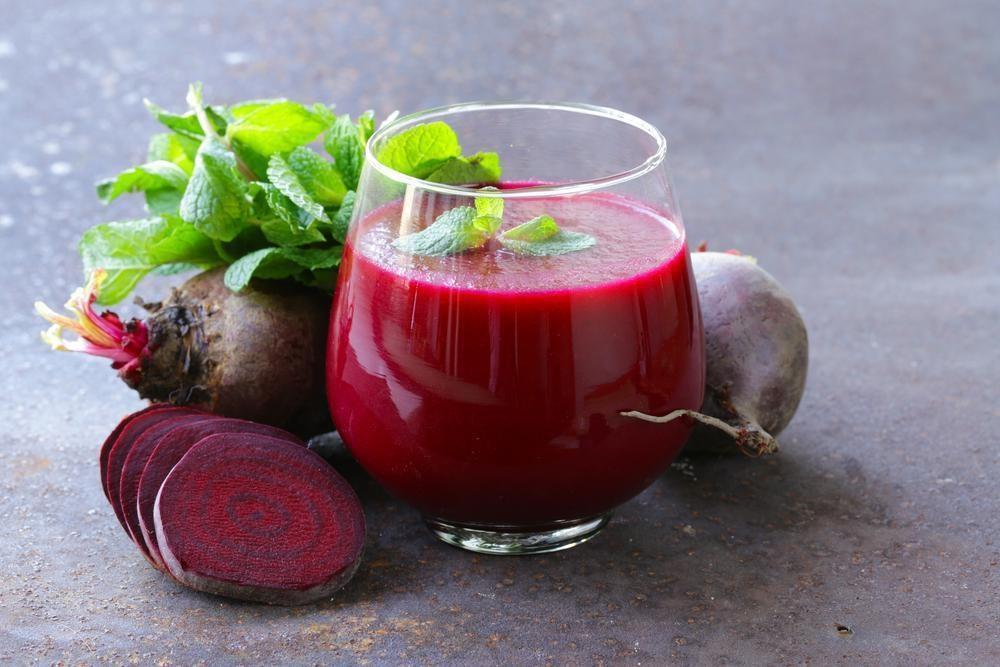glass-normal: (322, 101, 709, 554)
